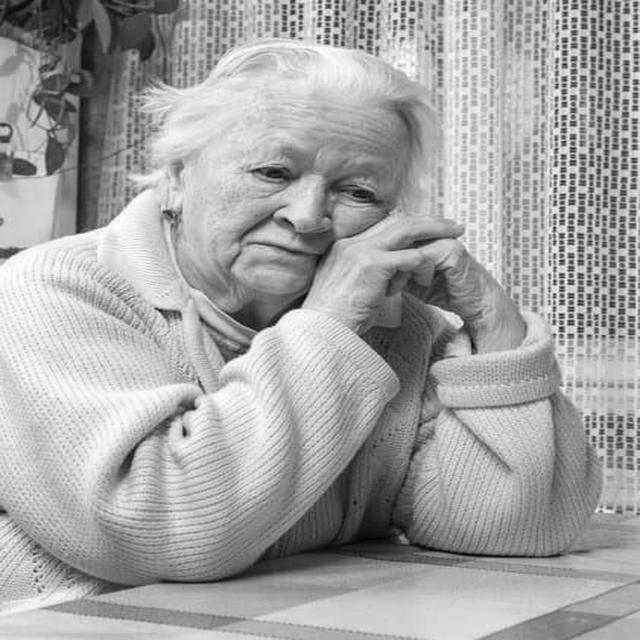Sadness: (227, 94, 398, 298)
